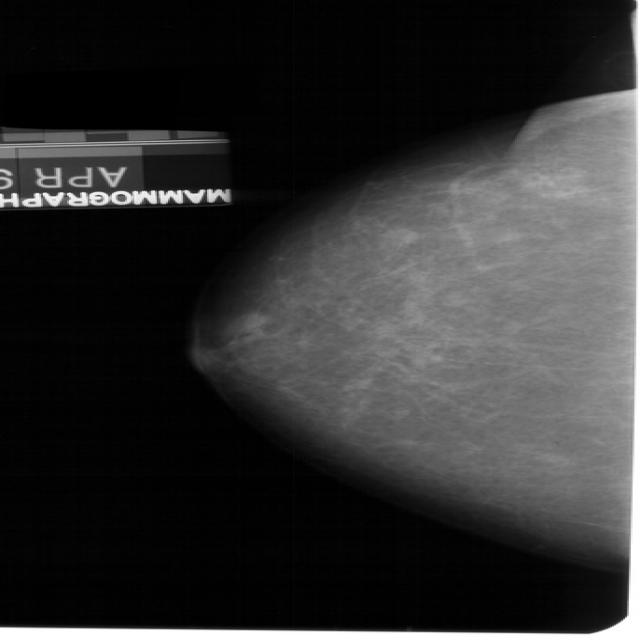tumour: (379, 226, 418, 243)
